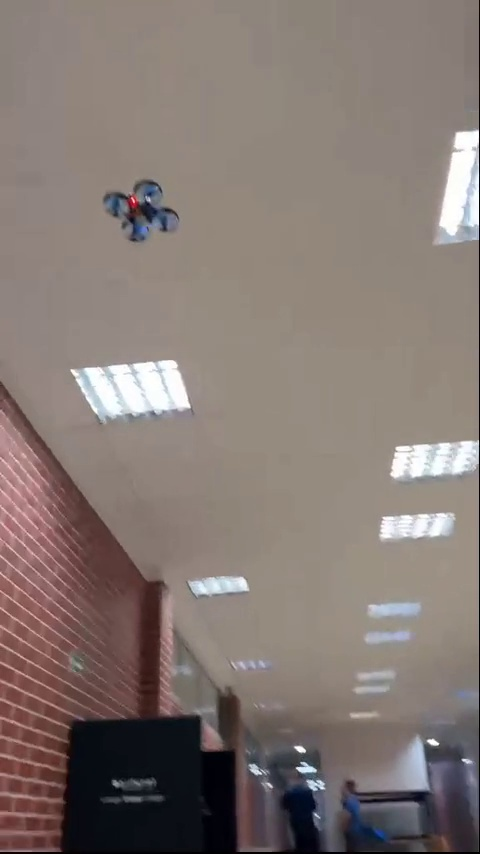drone: (105, 177, 180, 241)
